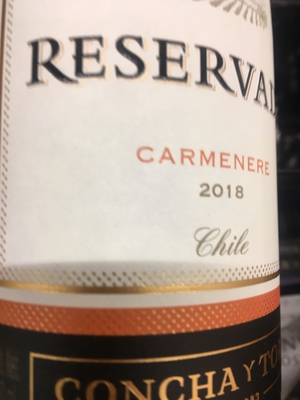reservado carmenere: (2, 3, 282, 400)
